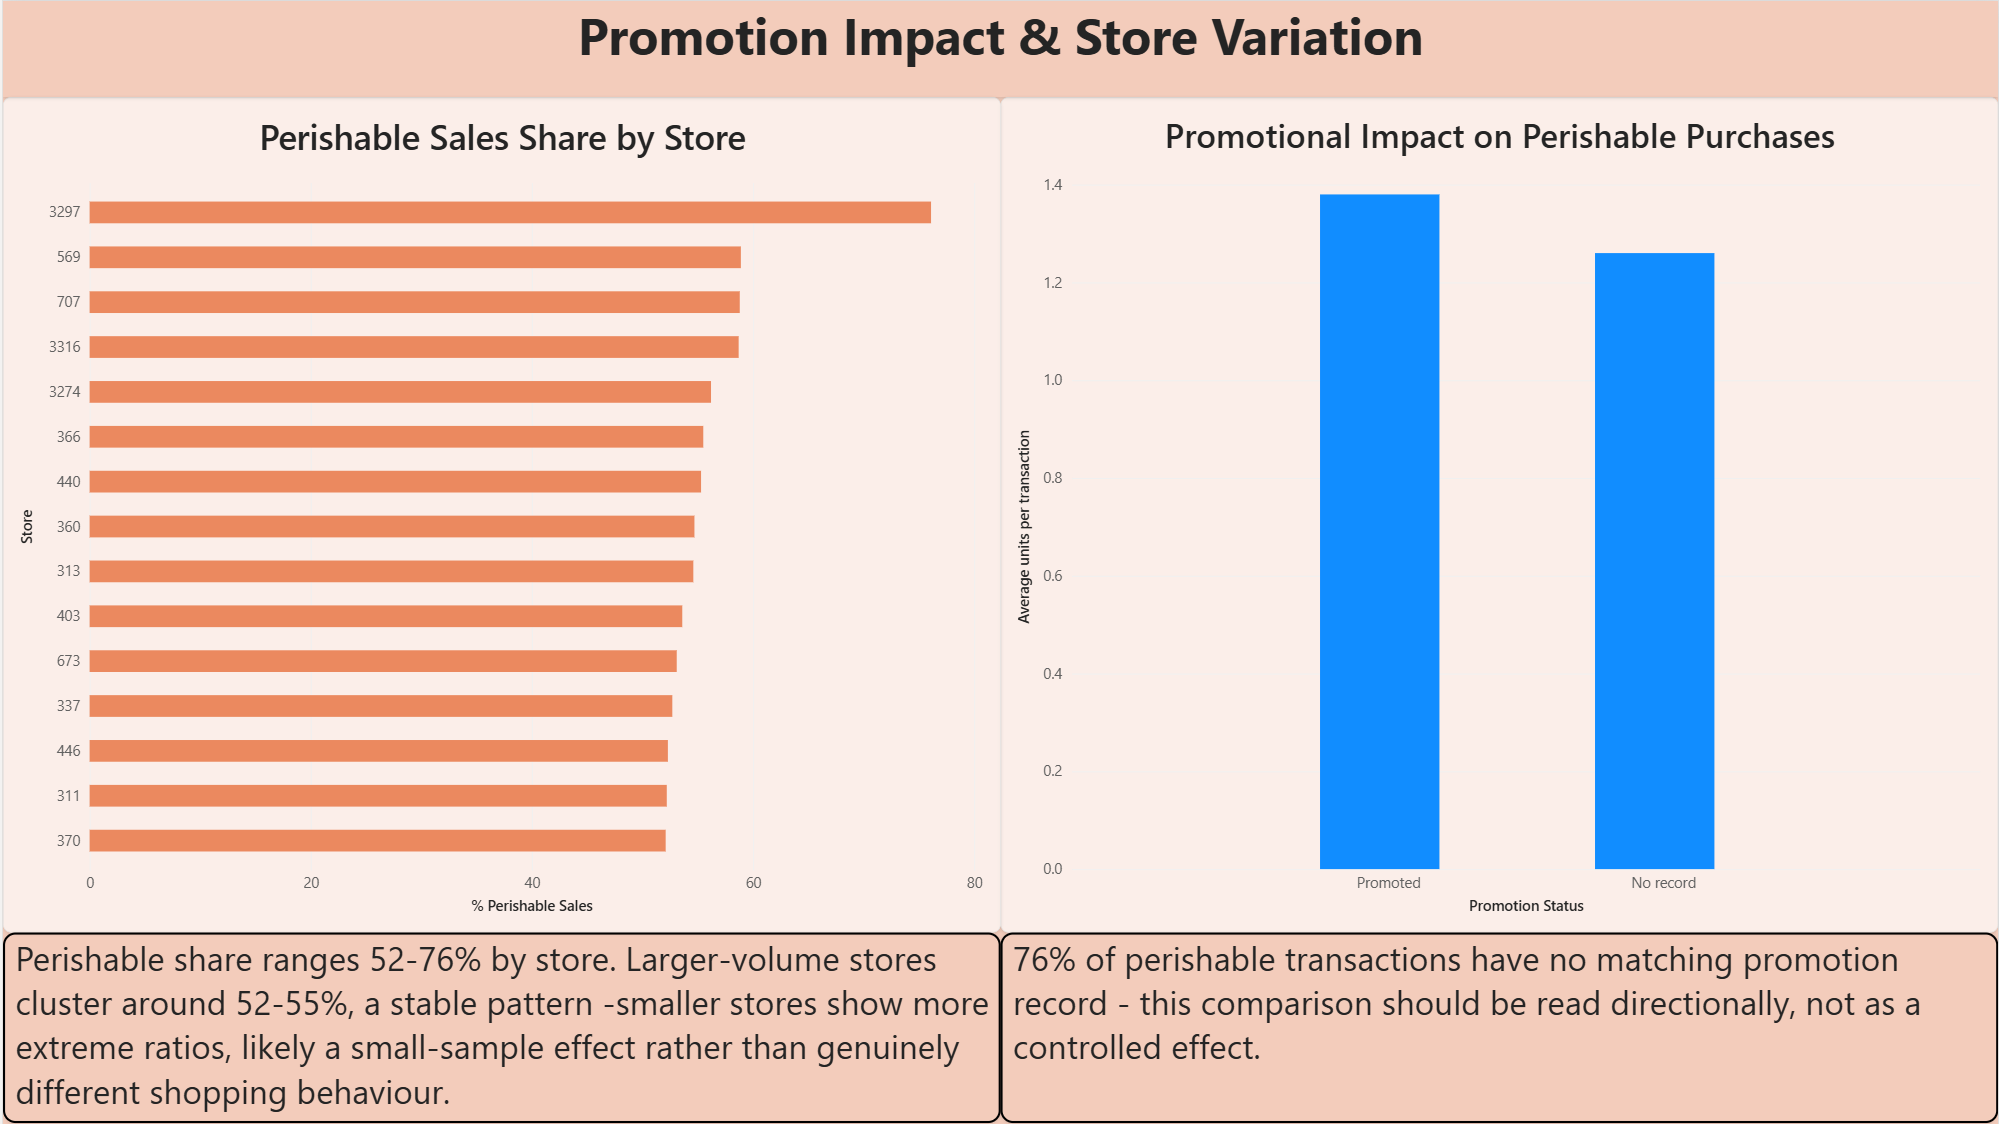

The dashboard page shown, as its layout file describes it:
{"tool":"powerbi","page":{"name":"Promotion & Store View","canvas":[1920,1080],"ordinal":3},"visuals":[{"type":"clusteredColumnChart","title":"Promotional Impact on Perishable Purchases","fields":{"Category":["promotion_effect.Promotion Status"],"Y":["Sum(promotion_effect.avg_units_per_line)"]},"box":[959.8,92.4,959.8,803.9],"z":0},{"type":"textbox","box":[959.8,896.3,959.8,183.3],"z":1000},{"type":"clusteredBarChart","title":"Perishable Sales Share by Store","fields":{"Category":["store_variation.store_id"],"Y":["Sum(store_variation.pct_perishable)"]},"box":[0,92.4,959.8,803.9],"z":2000},{"type":"textbox","box":[0,896.3,959.8,183.3],"z":3000},{"type":"textbox","box":[0,0,1919.5,92.4],"z":4000}]}

Visuals, with their boxes in screenshot pixels (x1, y1, x2, y2), scaled from the page's 1920x1080 canvas onto the 1999x1124 screenshot:
"Promotional Impact on Perishable Purchases" clusteredColumnChart: bbox=(999, 96, 1998, 933)
textbox: bbox=(999, 933, 1998, 1123)
"Perishable Sales Share by Store" clusteredBarChart: bbox=(0, 96, 999, 933)
textbox: bbox=(0, 933, 999, 1123)
textbox: bbox=(0, 0, 1998, 96)
